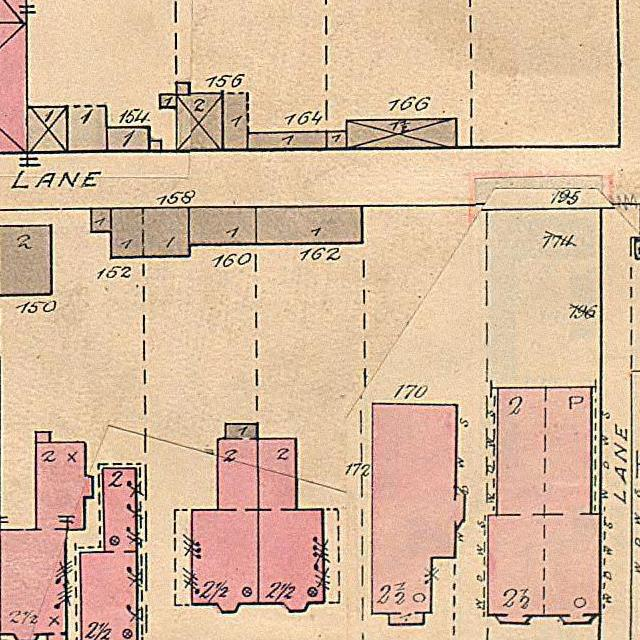building-footprints: (488, 387, 600, 624), (372, 404, 464, 624), (0, 442, 93, 640), (192, 424, 258, 612), (258, 439, 324, 611), (80, 468, 137, 640), (256, 206, 362, 243), (111, 209, 189, 257), (0, 226, 52, 295), (347, 119, 456, 148), (176, 93, 222, 151), (189, 207, 256, 245), (28, 107, 67, 153), (69, 106, 107, 152), (222, 92, 248, 150), (248, 133, 327, 149), (107, 127, 149, 151), (91, 209, 112, 232), (326, 132, 347, 149), (160, 94, 177, 108), (36, 432, 50, 443)
